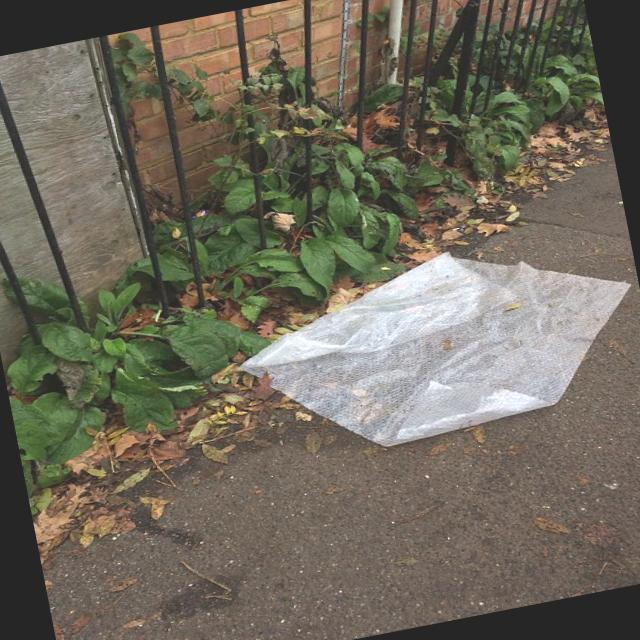Trash: (222, 216, 640, 471)
